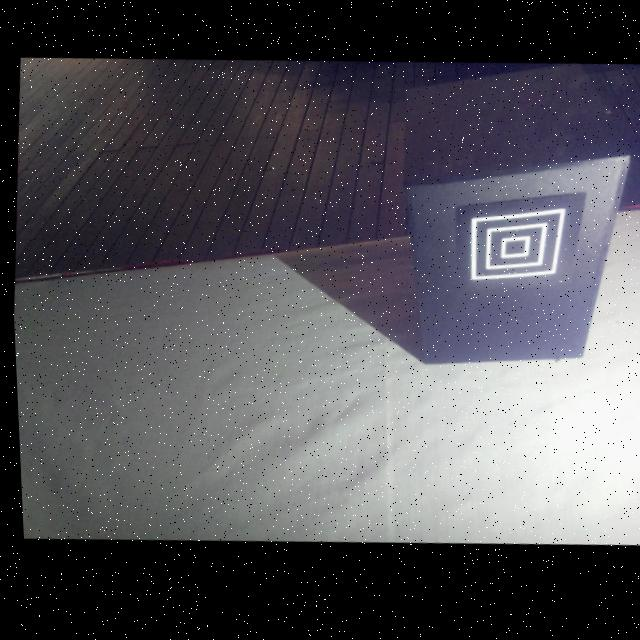BULLSEYE: (468, 215, 565, 287)
